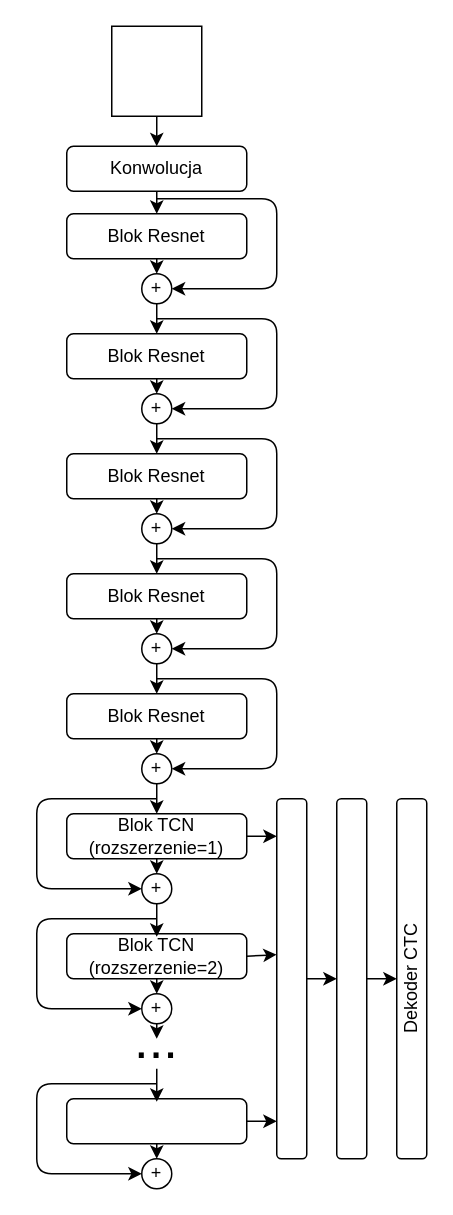
Some shapes in this 453 by 1215 pixel diagram are drawn without their labels. Here are the shapes that lost their labels. From the top down, the box of each, then its label:
(110, 25, 202, 116): Dane wejściowe
(275, 797, 307, 1159): Suma
(335, 797, 367, 1159): Warstw gęsto połączona
(65, 1097, 247, 1144): Blok TCN (rozszerzenie=64)
